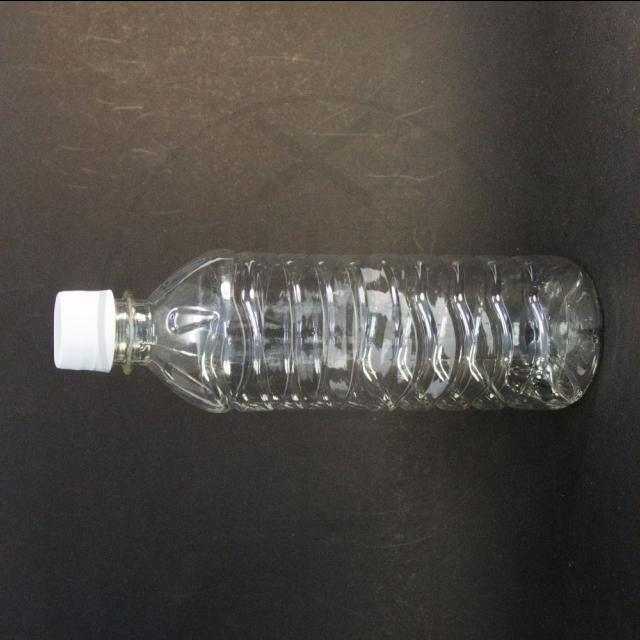bottle: (55, 251, 601, 411)
